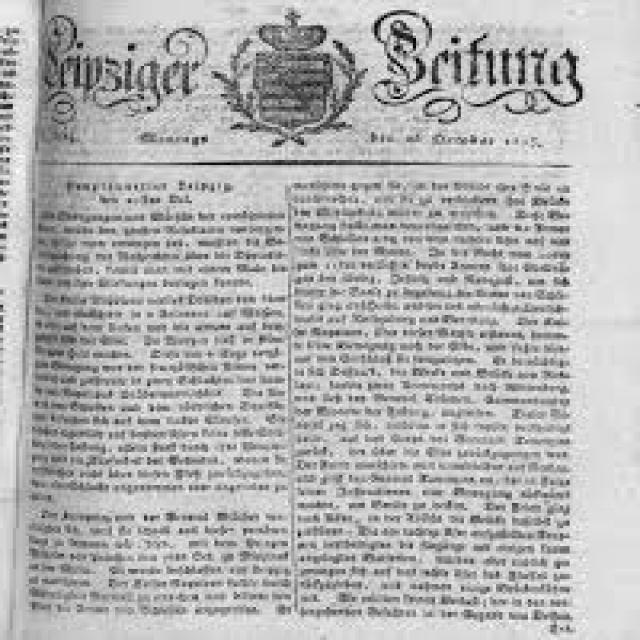paper: (0, 12, 640, 632)
